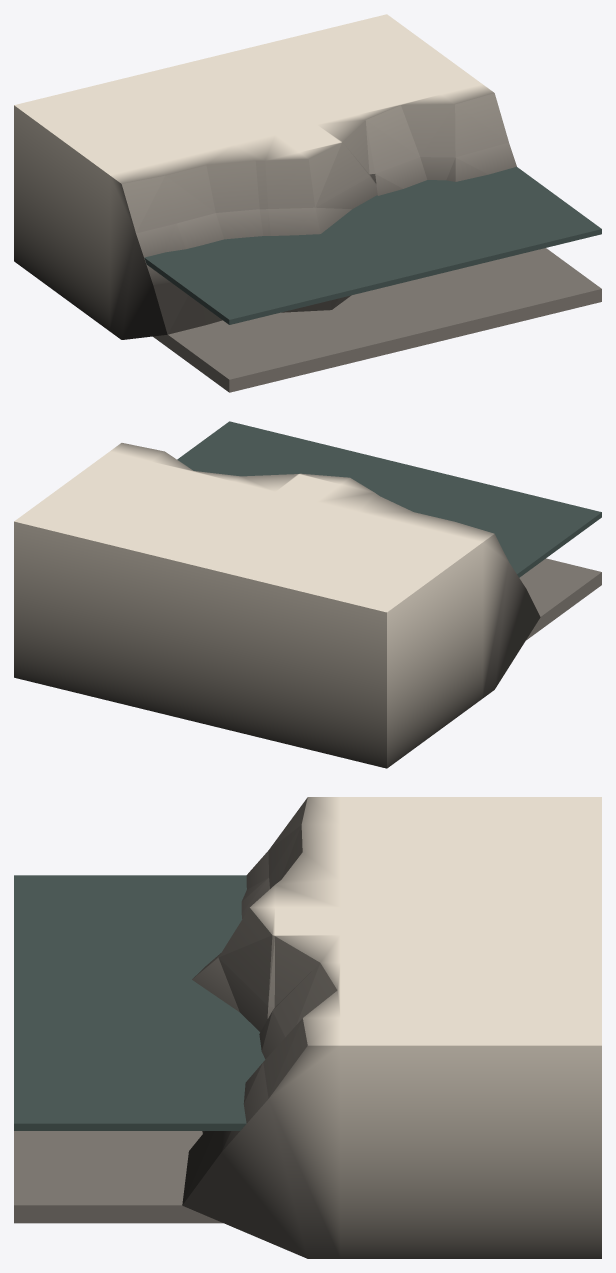
File: SM_VKI_Ground_Stream_XXOO_Q10.fbx
3 renders of one model, top to bottom at view 1: azimuth 30°, elevation 25°; view 2: azimuth 150°, elevation 25°; view 3: azimuth 270°, elevation 25°, orthographic. The views are drawn at different scales.
Parts seen in each view (by area): view 1: SM_VKI_Ground_Stream_XXOO_Q10.001; view 2: SM_VKI_Ground_Stream_XXOO_Q10.001; view 3: SM_VKI_Ground_Stream_XXOO_Q10.001.
Part boxes in pixels (x1=…): SM_VKI_Ground_Stream_XXOO_Q10.001: x1=14, y1=14, x2=601, y2=392; SM_VKI_Ground_Stream_XXOO_Q10.001: x1=14, y1=421, x2=601, y2=768; SM_VKI_Ground_Stream_XXOO_Q10.001: x1=14, y1=797, x2=601, y2=1258.
Size of the model in its own units: 1.5 by 0.6 by 1.5.
